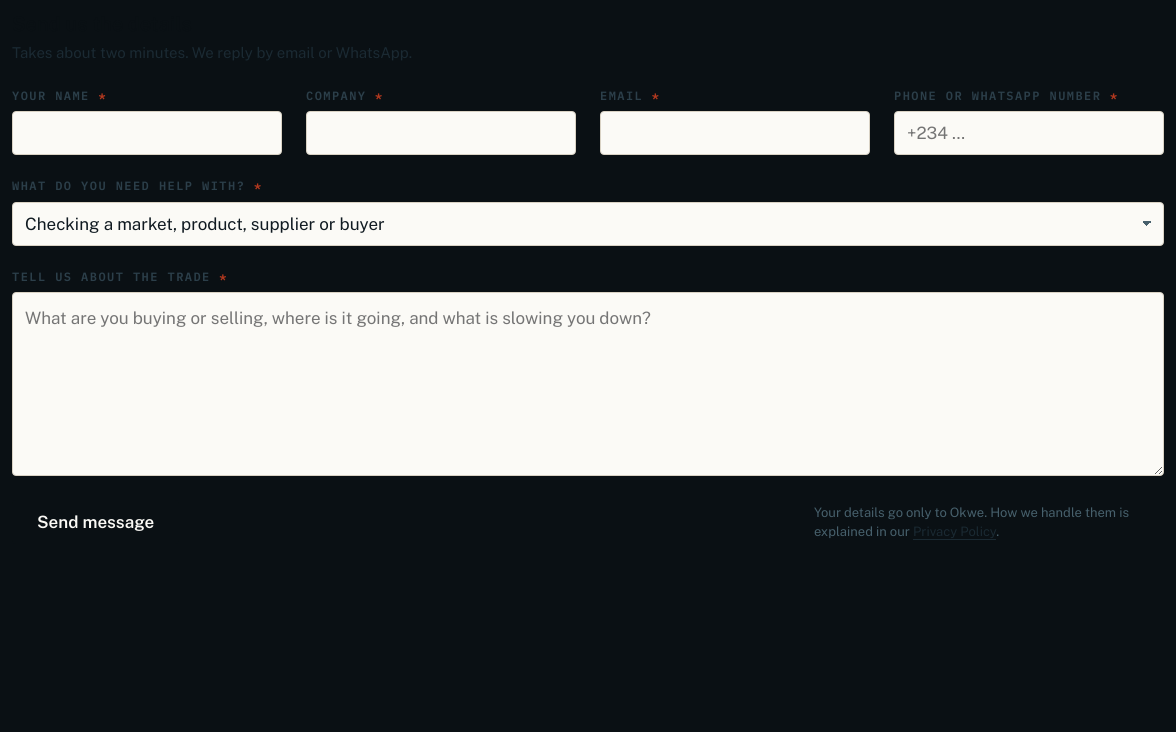
EnquiryForm › posts every answer into the Google Form and confirms
Type "Ada Okafor" into the field labelled "Your name *".
click(147, 133); type("Ada Okafor")  # box 12,111 -> 282,155
Type "Okafor Traders" into the field labelled "Company *".
click(441, 133); type("Okafor Traders")  # box 306,111 -> 576,155
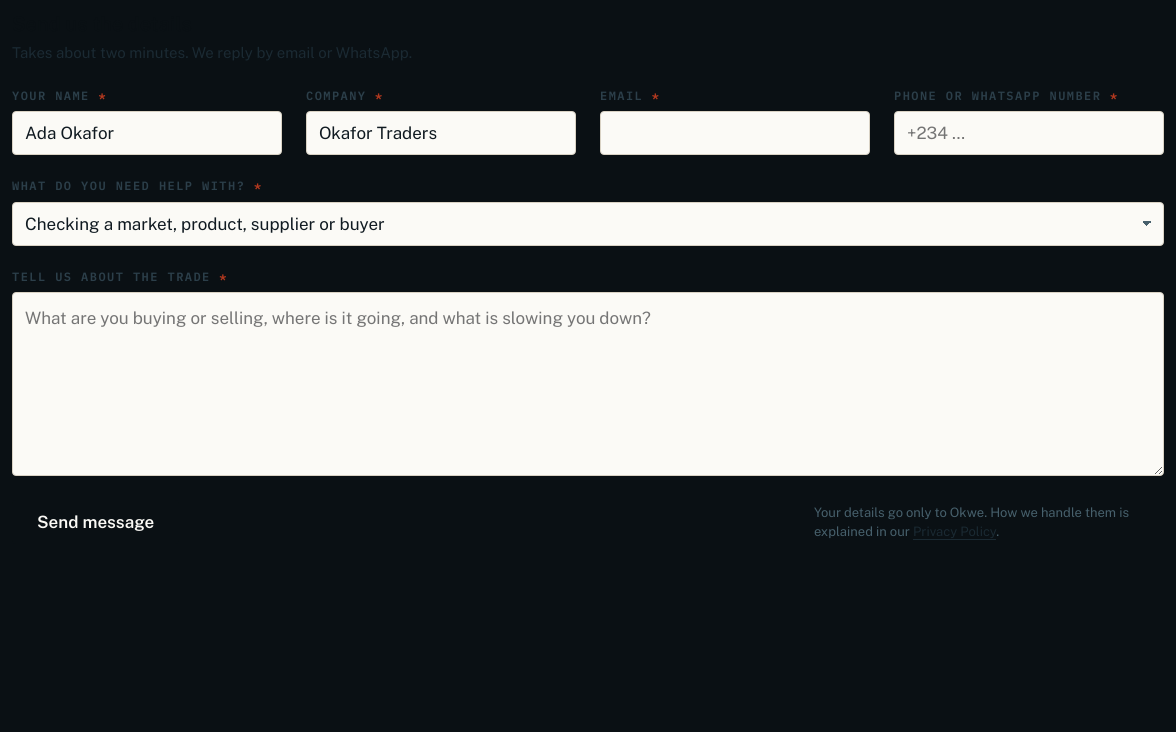
Type "ada@example.com" into the field labelled "Email *".
click(735, 133); type("ada@example.com")  # box 600,111 -> 870,155
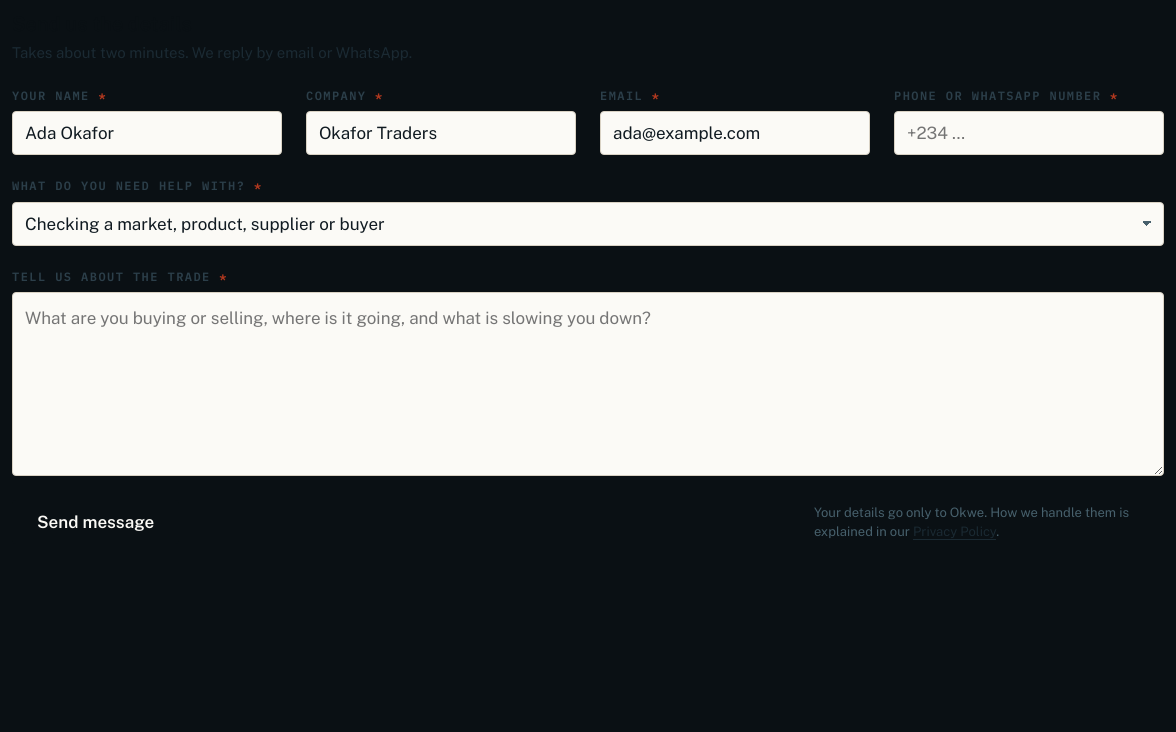
Type "+234 800 000 0000" into the field labelled "Phone or WhatsApp number *".
click(1029, 133); type("+234 800 000 0000")  # box 894,111 -> 1164,155
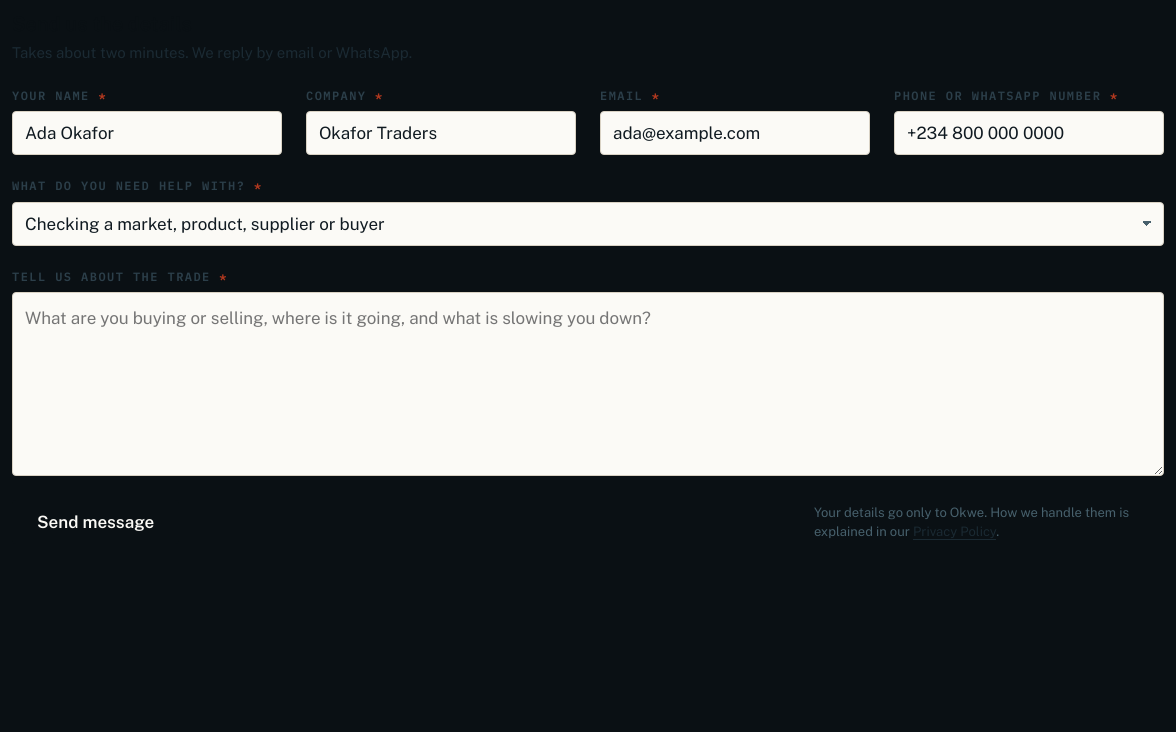
Select "Shipping, clearing and delivering goods" in the dropdown labelled "What do you need help with? *" at [588, 224], box 12,202 -> 1164,246
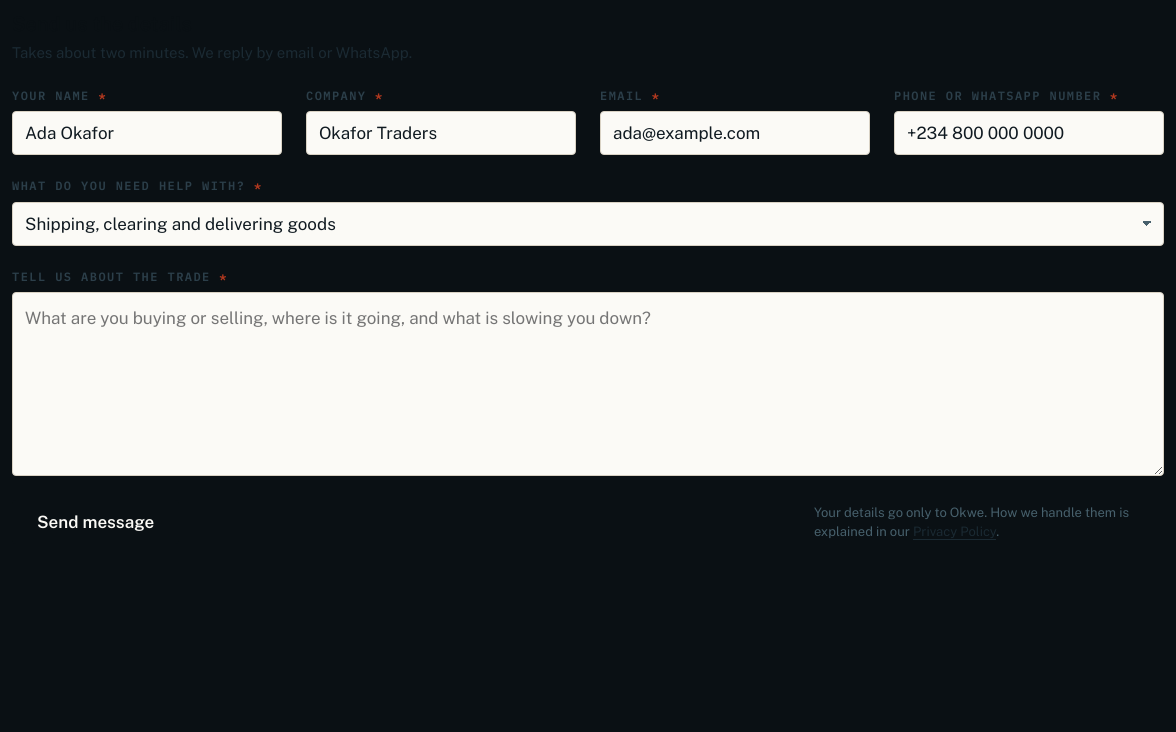
Replace the text in the text box labelled "Tell us about the trade *" with "Two containers of cashew to Rotterdam." at [588, 384], box 12,292 -> 1164,476
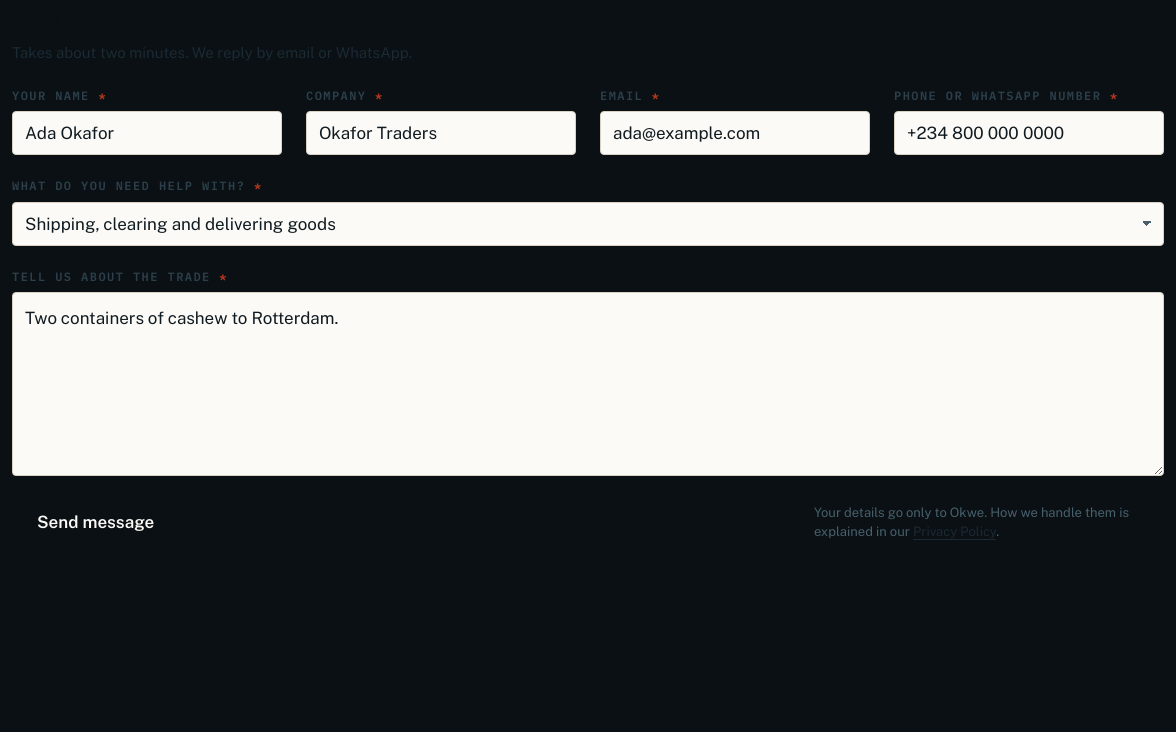
Submit the form named "Send message"
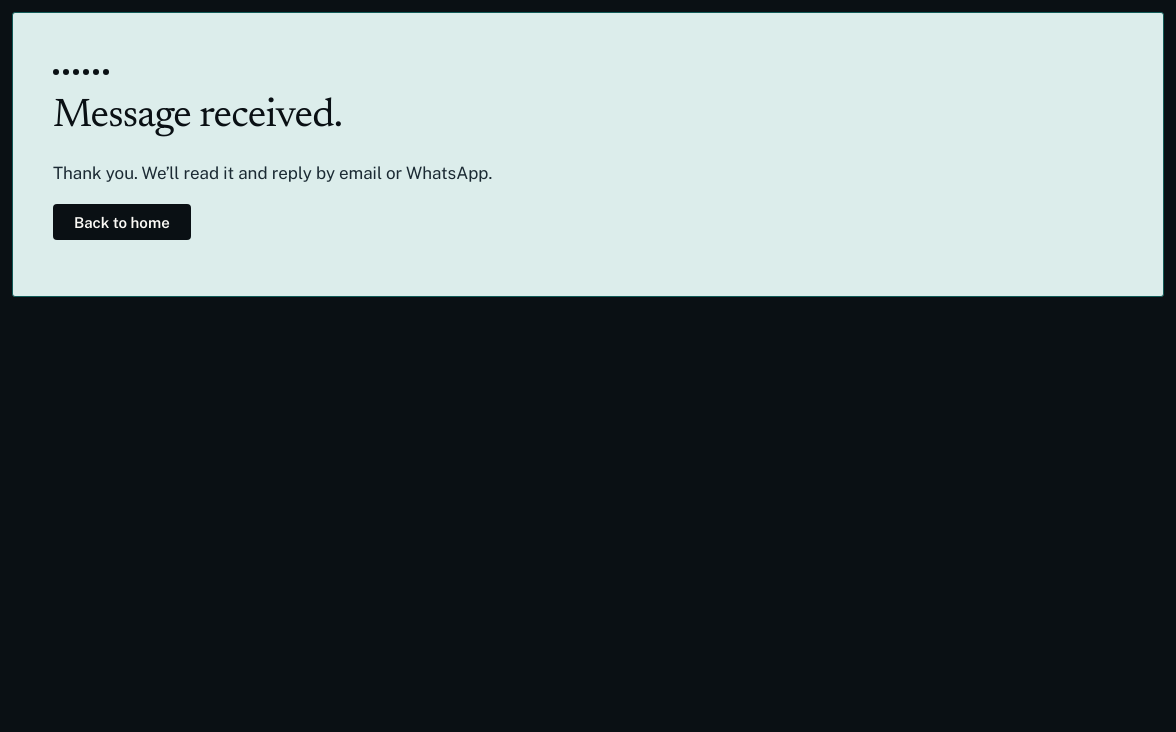
Expected: the heading "Message received." is shown, 53,93 -> 342,142
